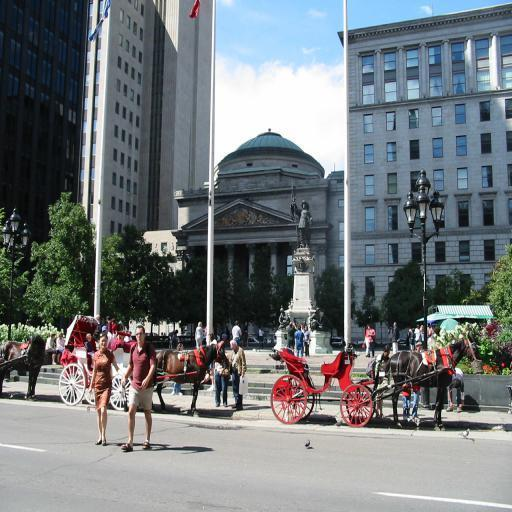horse: (384, 328, 480, 430), (156, 338, 234, 422), (0, 331, 48, 402)
